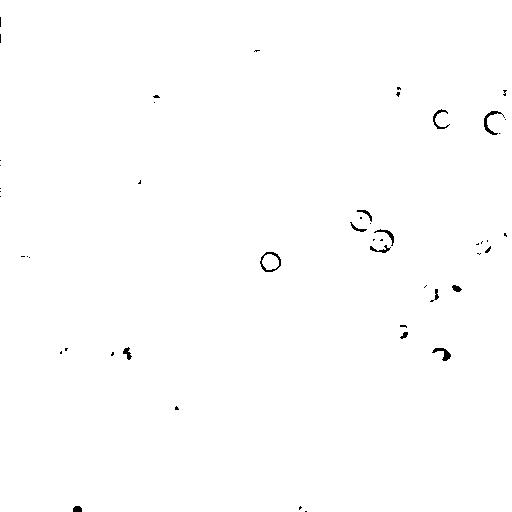micro-algae: (359, 232, 461, 329), (2, 341, 60, 429), (115, 27, 175, 86), (92, 357, 137, 401), (40, 332, 83, 370), (120, 162, 154, 193), (113, 339, 142, 373), (439, 271, 470, 302), (254, 331, 288, 357), (383, 0, 416, 25), (368, 227, 397, 254), (470, 343, 497, 371), (492, 210, 512, 246), (482, 109, 508, 136), (348, 207, 375, 233), (166, 391, 194, 416), (58, 495, 98, 512), (263, 205, 287, 233), (258, 250, 284, 275), (13, 254, 39, 278), (247, 48, 271, 73), (123, 234, 144, 260), (431, 107, 453, 131), (382, 77, 404, 100), (386, 323, 410, 344), (420, 284, 441, 305), (472, 239, 494, 259), (430, 347, 454, 362), (2, 18, 12, 47), (304, 247, 323, 262), (493, 87, 512, 100), (288, 505, 311, 511)
